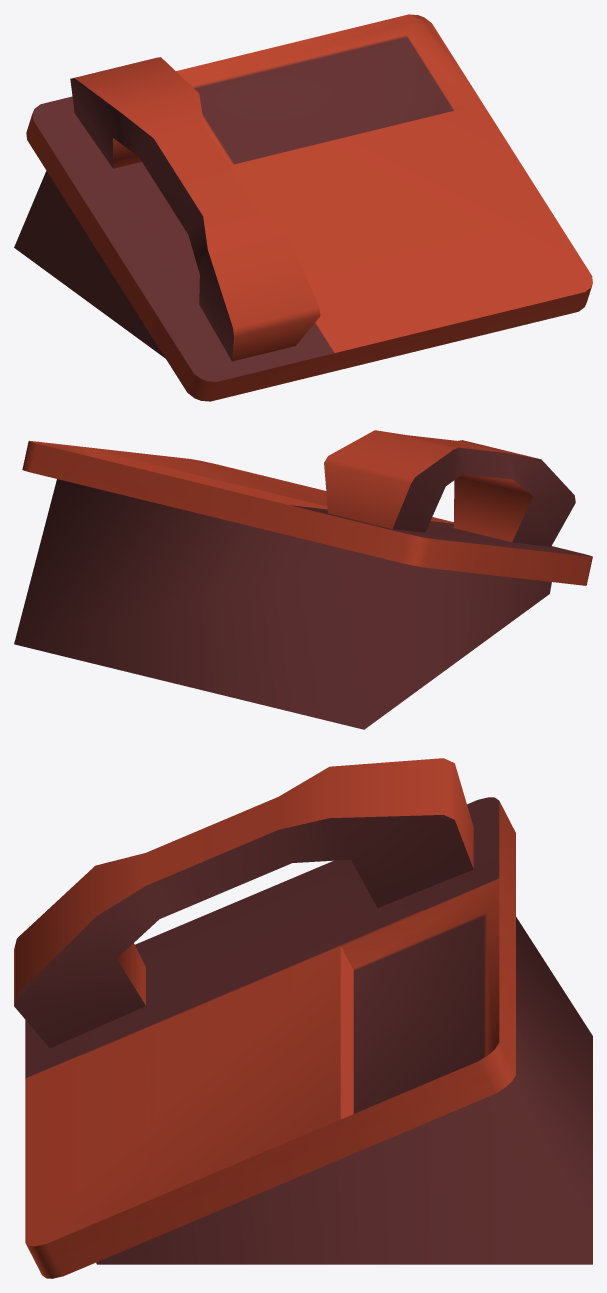
The model's file is Telepon 2.FBX.
3 views of the same model, one above another, from view 1: azimuth 30°, elevation 25°; view 2: azimuth 150°, elevation 25°; view 3: azimuth 270°, elevation 25° (orthographic). The views are drawn at different scales.
Parts seen in each view (by area): view 1: Box002; view 2: Box002; view 3: Box002.
Part boxes in pixels (left/top/right/bottom): Box002: left=14, top=14, right=592, bottom=401; Box002: left=14, top=430, right=592, bottom=729; Box002: left=14, top=758, right=592, bottom=1278.
Bounding box in the file's own units: 26.74 × 13.53 × 24.99.
